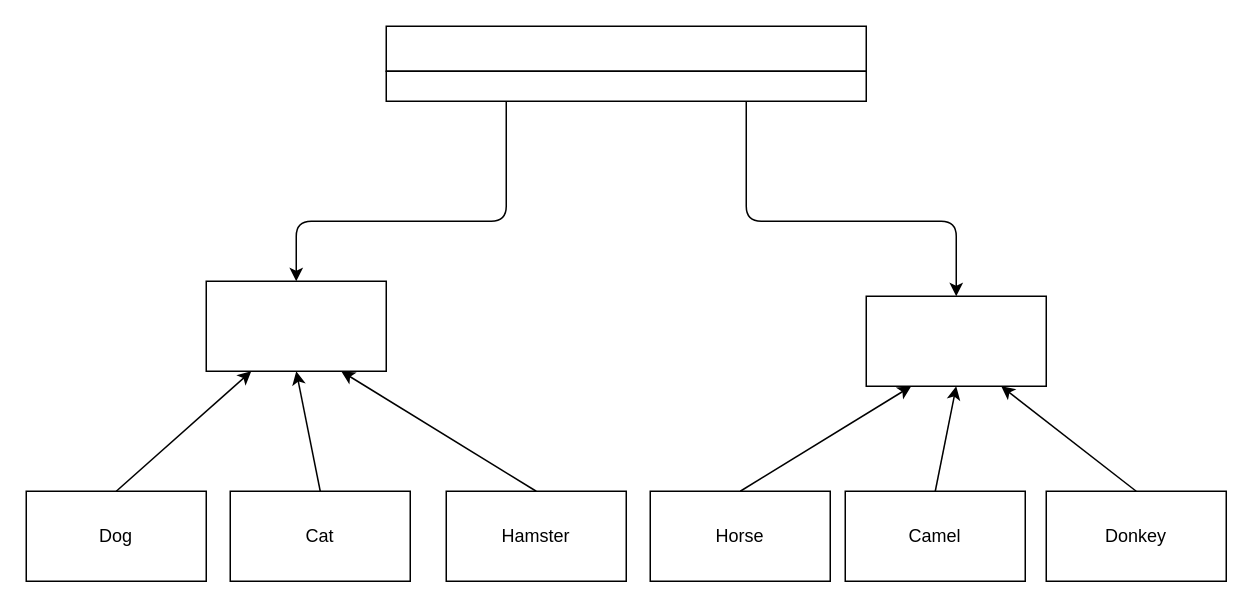
Some shapes in this 1253 by 608 pixel diagram are drawn without their labels. The centre of each missing label's shape, as x and y in pixels:
"Animal" goes at [625,48].
"Pack_animal" goes at [955,340].
"Pet" goes at [295,325].
